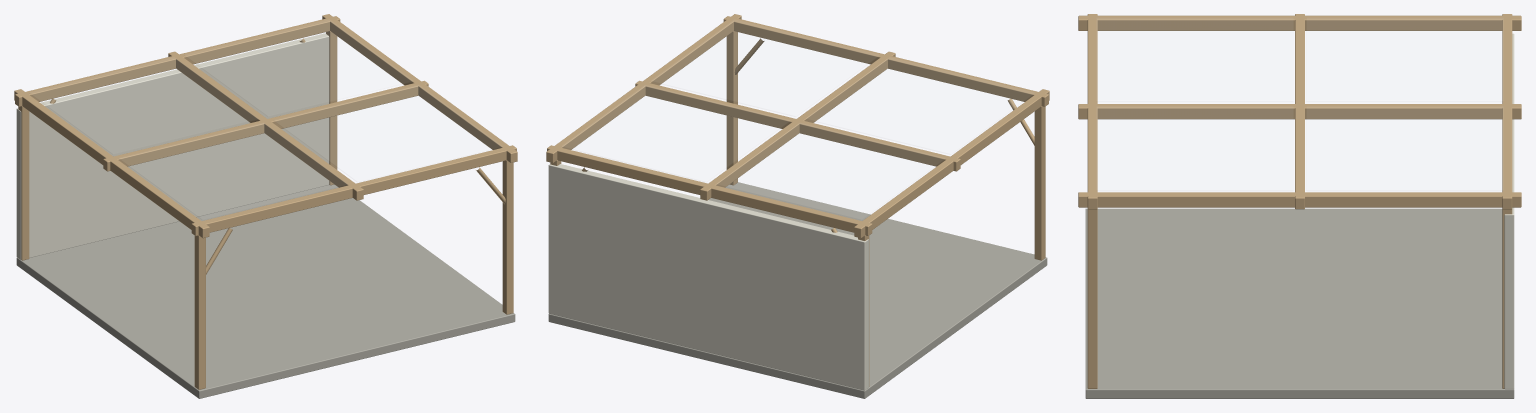
Rendered from bookbinding-and-paper-mill-covered-wet-mill-bay-3d96f538__30544.glb.
The picture shows the model from 3 angles, left to right: view 1: azimuth 30°, elevation 25°; view 2: azimuth 150°, elevation 25°; view 3: azimuth 270°, elevation 25°; orthographic projection. The views are drawn at different scales.
Visible parts, largest first — view 1: covered-wet-mill-bay; view 2: covered-wet-mill-bay; view 3: covered-wet-mill-bay.
Part boxes in pixels (left/top/right/bottom): covered-wet-mill-bay: left=14, top=14, right=517, bottom=398; covered-wet-mill-bay: left=546, top=14, right=1049, bottom=398; covered-wet-mill-bay: left=1078, top=14, right=1521, bottom=398.
Bounding box in the file's own units: 6.1 × 3.17 × 6.2.
